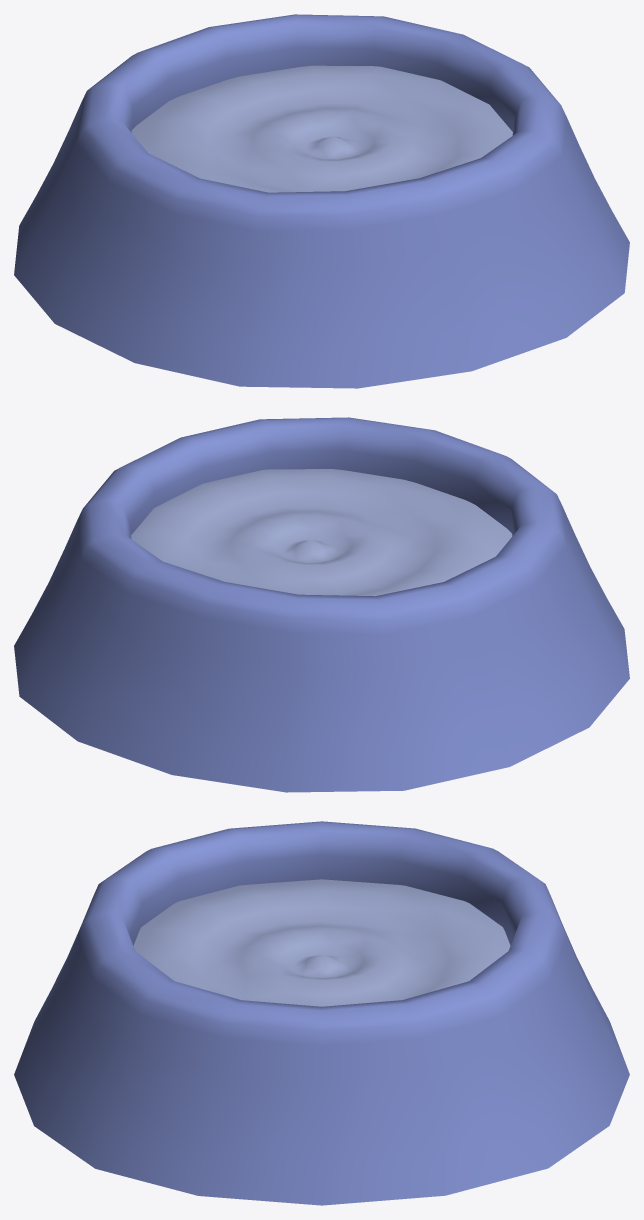
File: drink.fbx
3 renders of one model, top to bottom at view 1: azimuth 30°, elevation 25°; view 2: azimuth 150°, elevation 25°; view 3: azimuth 270°, elevation 25°, orthographic. The views are drawn at different scales.
Parts seen in each view (by area): view 1: Cube_001, Plane; view 2: Cube_001, Plane; view 3: Cube_001, Plane.
Part boxes in pixels (left/top/right/bottom): Cube_001: left=14, top=14, right=629, bottom=388; Plane: left=131, top=65, right=512, bottom=192; Cube_001: left=14, top=417, right=629, bottom=792; Plane: left=131, top=469, right=512, bottom=596; Cube_001: left=14, top=821, right=629, bottom=1205; Plane: left=133, top=879, right=510, bottom=1006.
Bounding box in the file's own units: 0.367 × 0.1461 × 0.3566.
